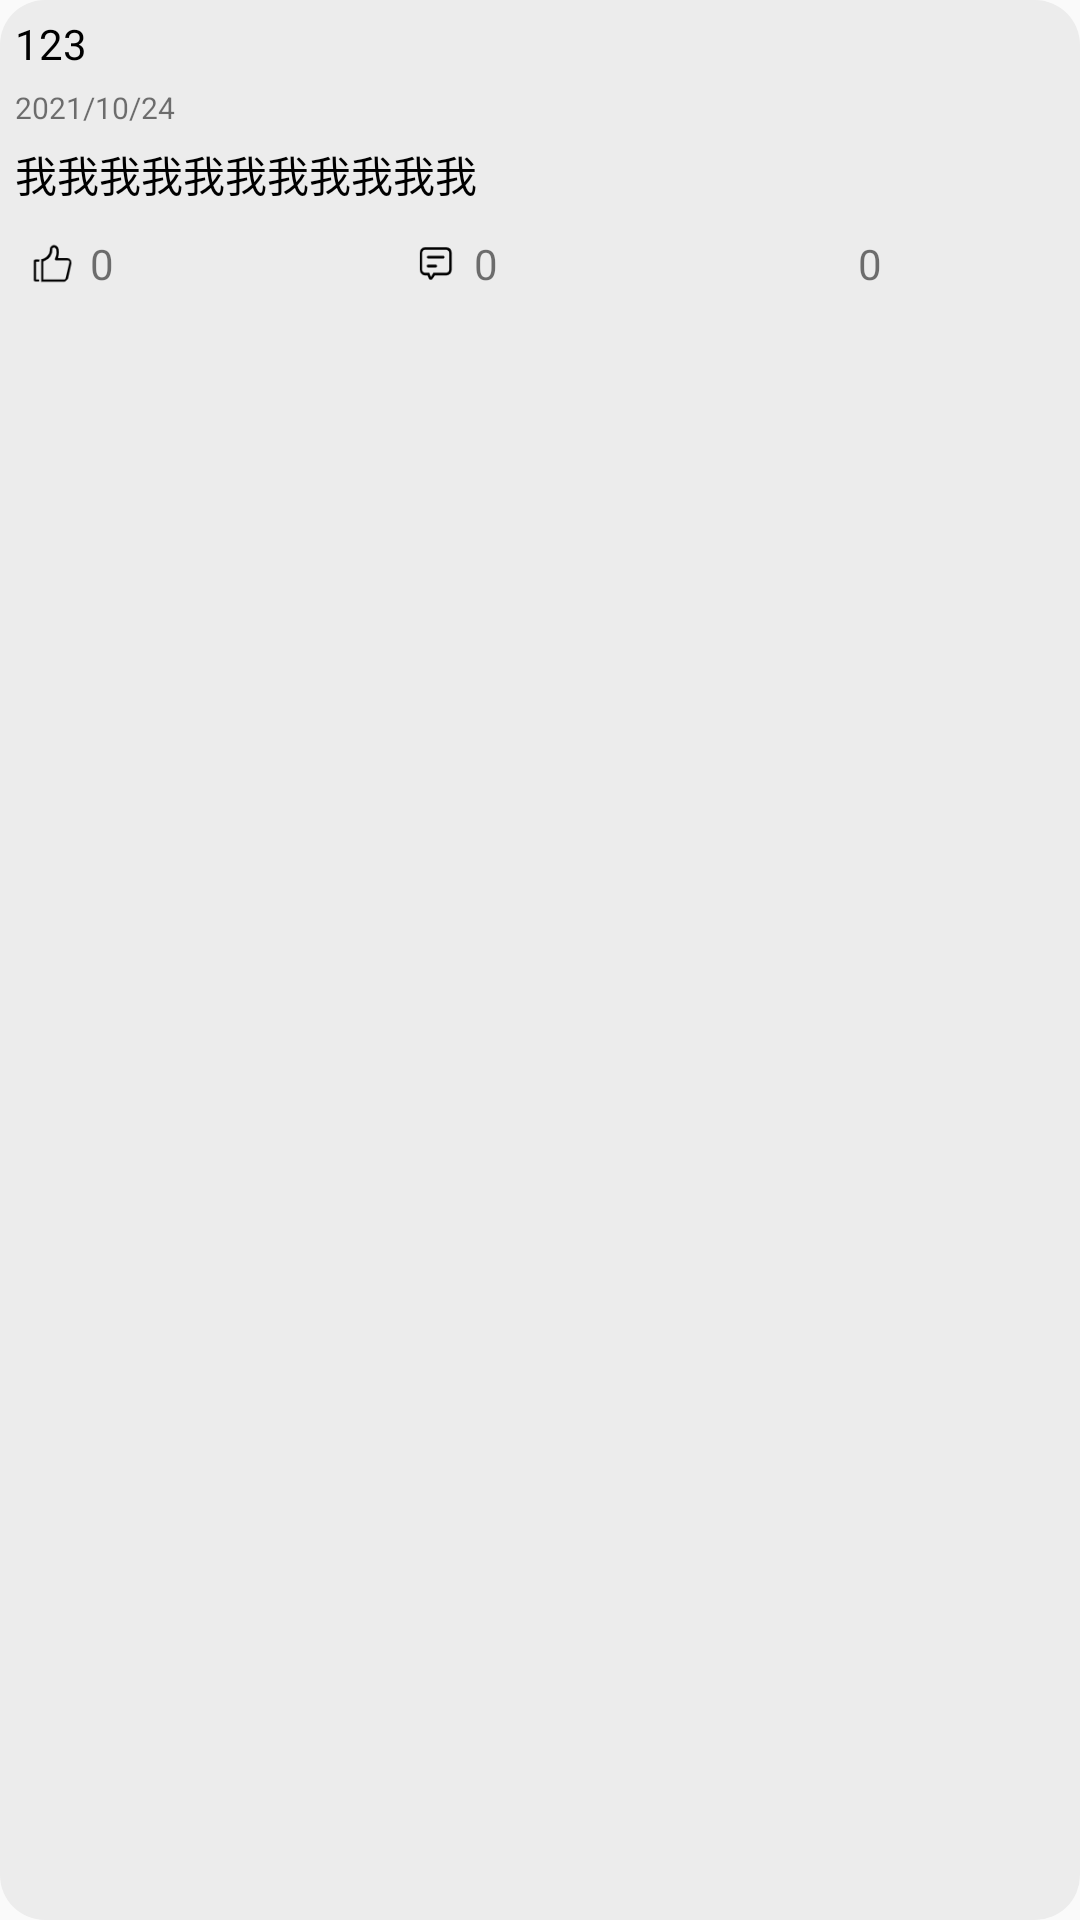

Screen size 1080 × 1920. Icon name, then its center in pixels as (x=x, y=y):
comment: (x=436, y=263)
like: (x=52, y=263)
